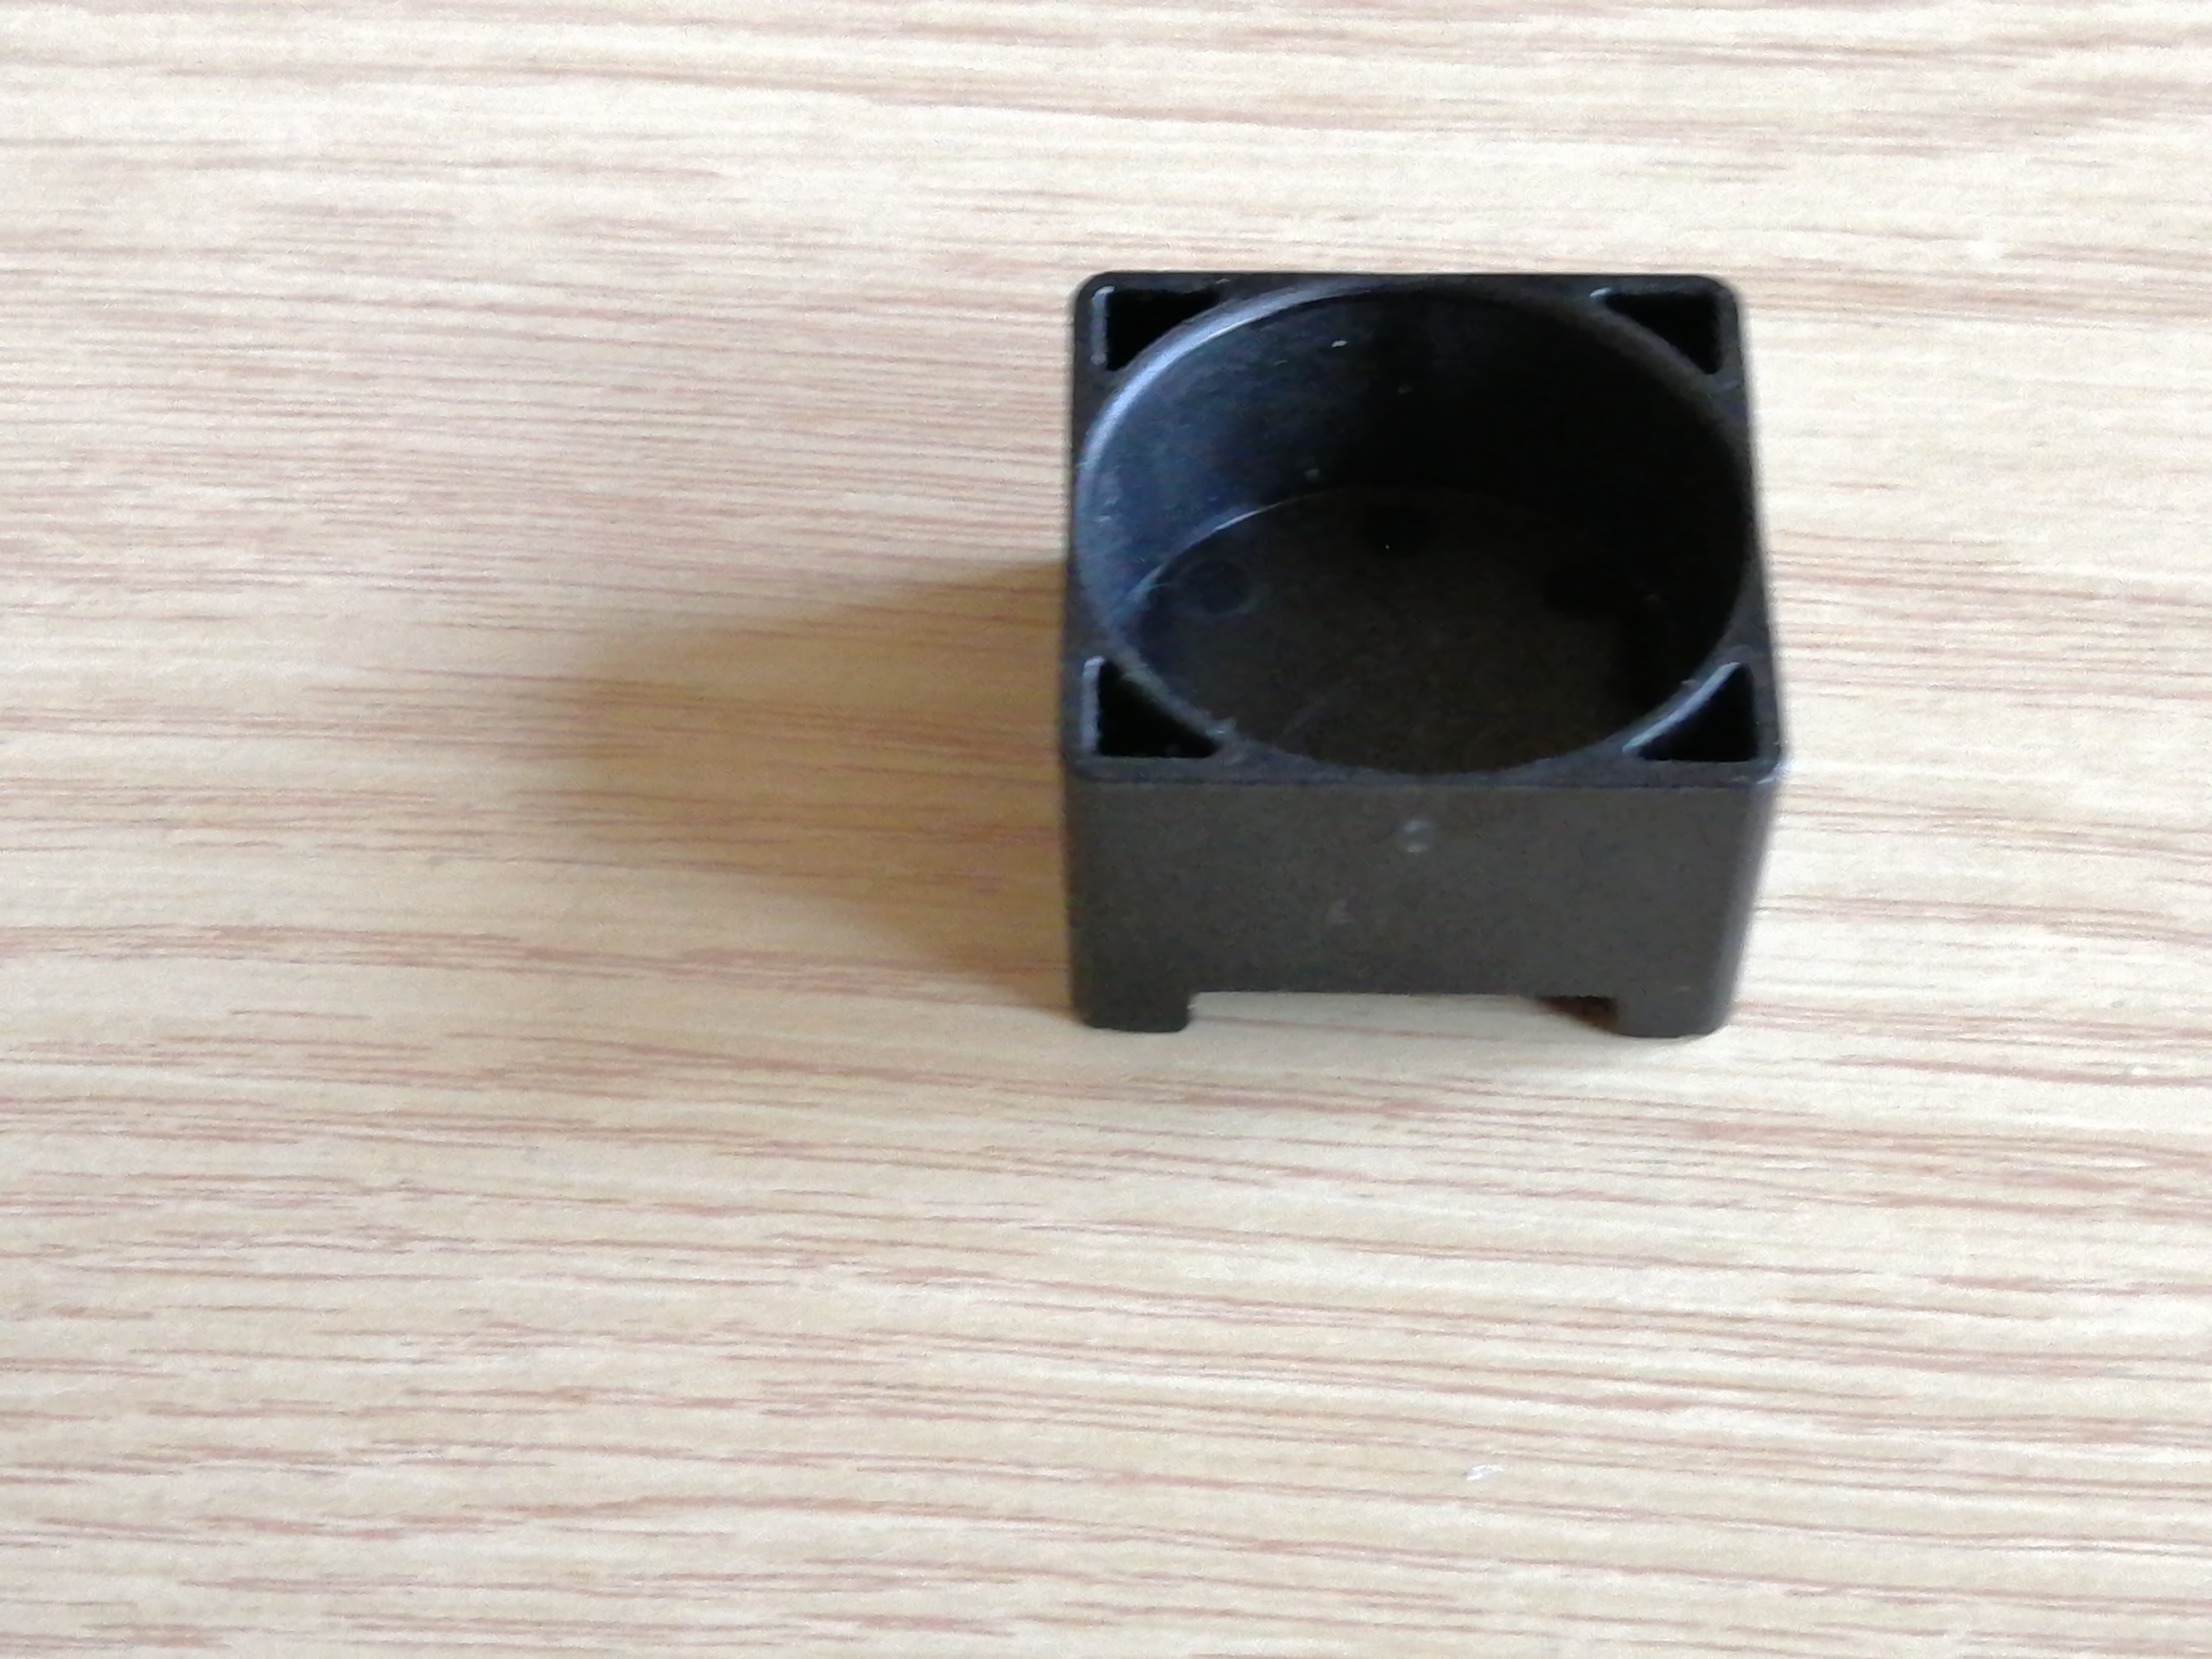Behaelter: (1071, 282, 1728, 1028)
